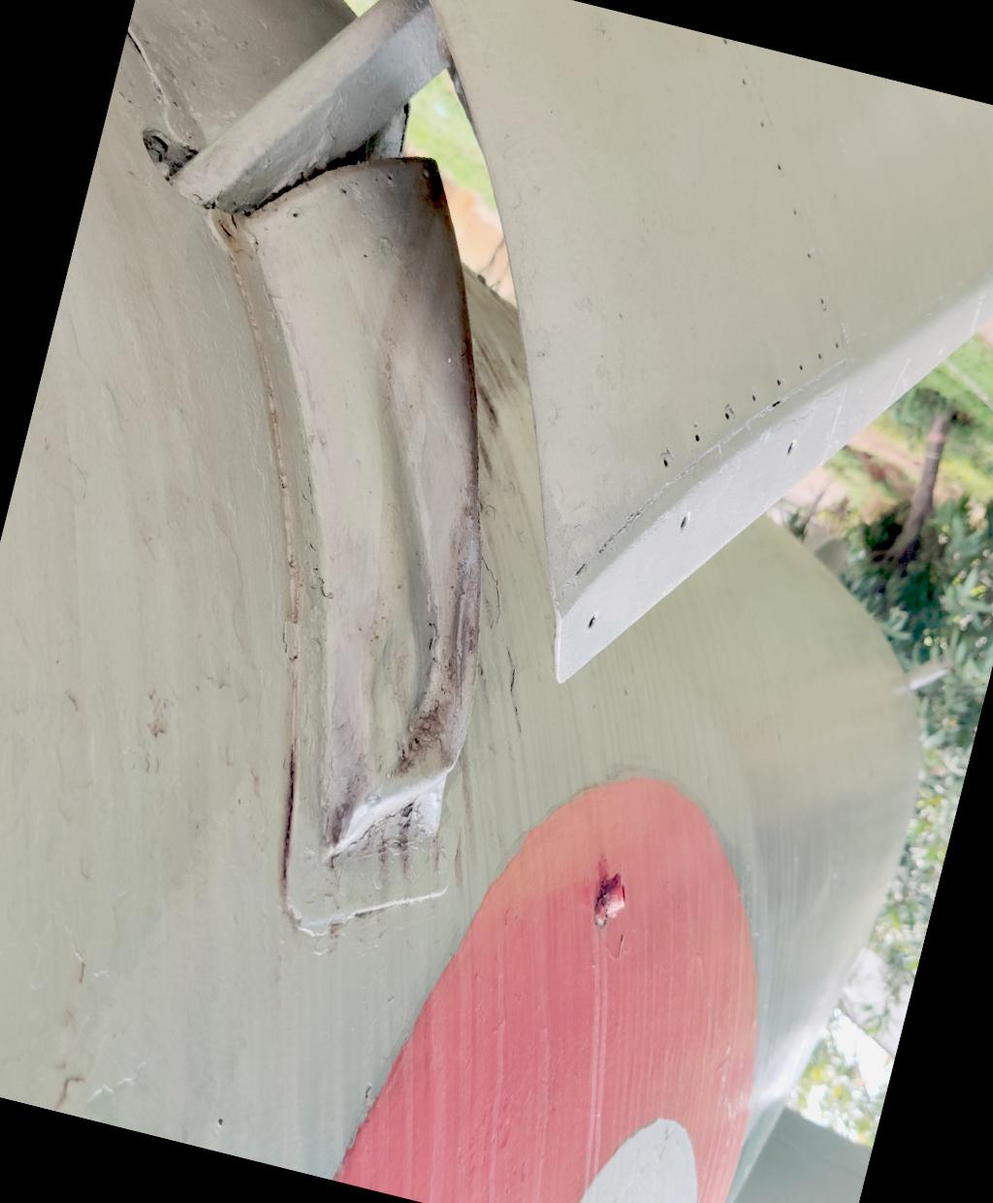dent: (211, 256, 609, 906)
